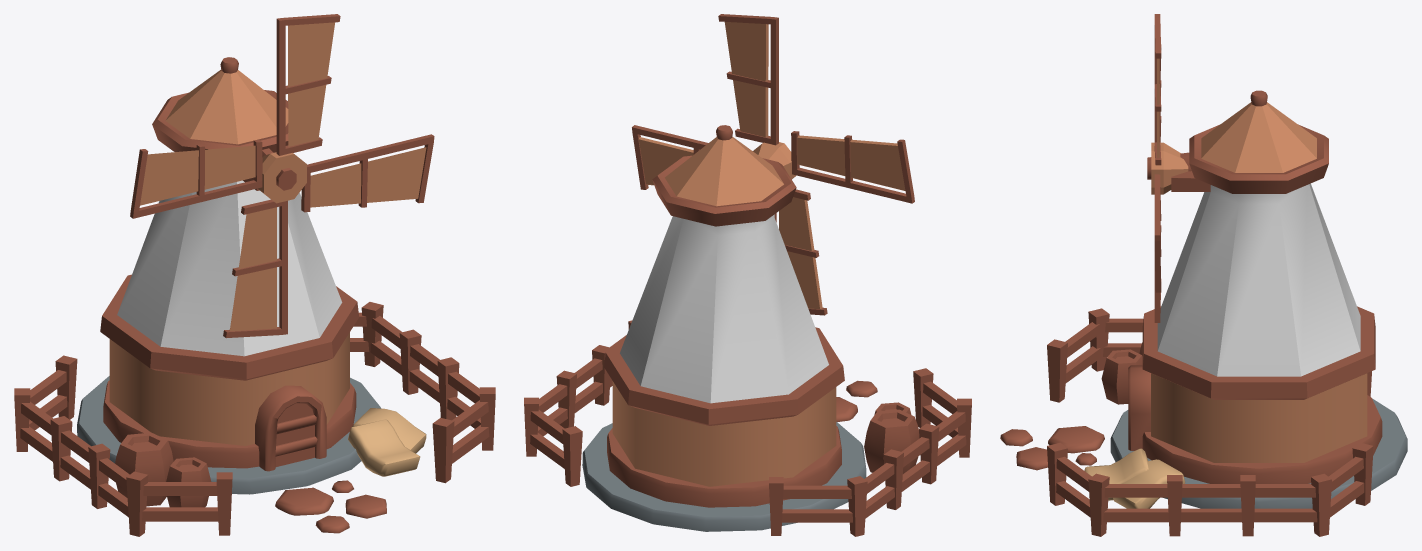
Rendered from mill.glb.
3 views of the same model, side by side, from view 1: azimuth 30°, elevation 25°; view 2: azimuth 150°, elevation 25°; view 3: azimuth 270°, elevation 25° (orthographic). The views are drawn at different scales.
Parts seen in each view (by area): view 1: Cylinder.756, mill_blades; view 2: Cylinder.756, mill_blades; view 3: Cylinder.756, mill_blades.
Part boxes in pixels (x1,y1,x2,y2): Cylinder.756: (14,57,495,536); mill_blades: (130,14,434,338); Cylinder.756: (524,125,971,536); mill_blades: (632,14,914,315); Cylinder.756: (1000,90,1407,536); mill_blades: (1151,14,1188,322).
Bounding box in the file's own units: 6.75 × 7.93 × 6.67.
